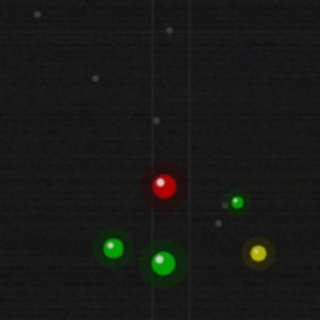green_normal: (149, 249, 177, 277), (101, 236, 125, 260), (229, 194, 245, 210)
red_fault: (150, 172, 178, 200)
yellow_warning: (248, 243, 268, 263)
